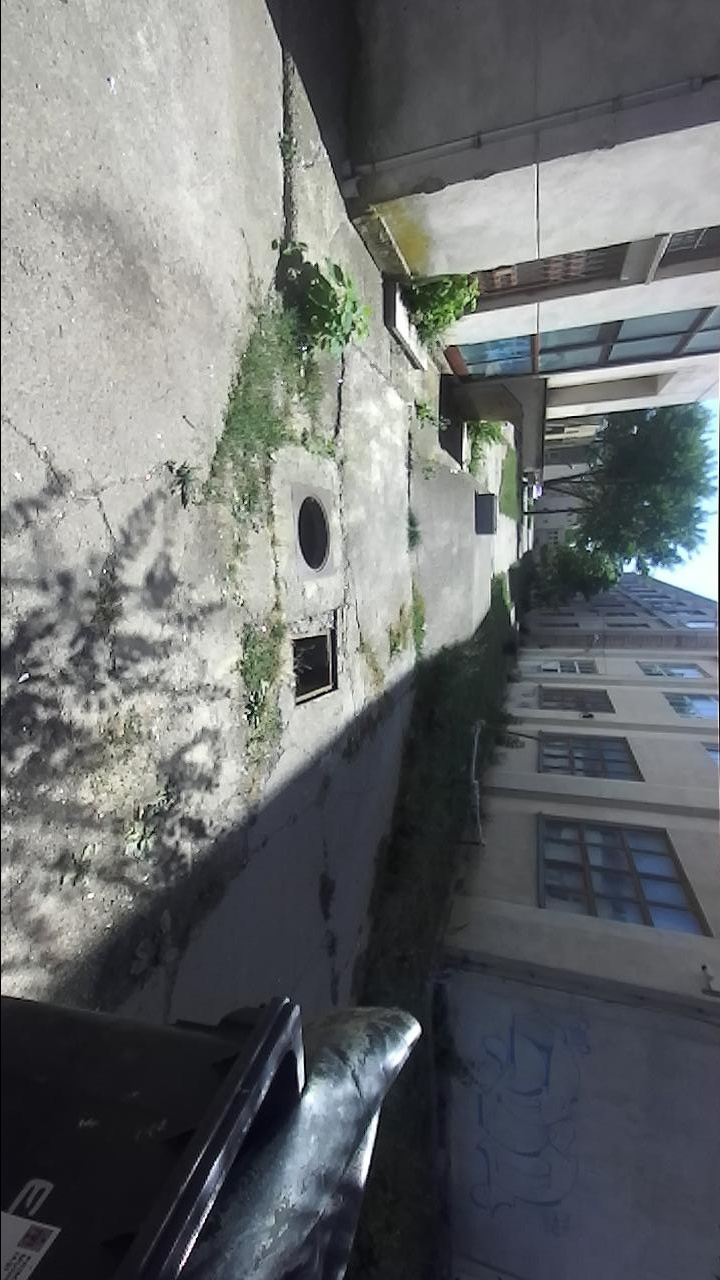drain: (288, 626, 341, 712), (293, 488, 336, 577)
